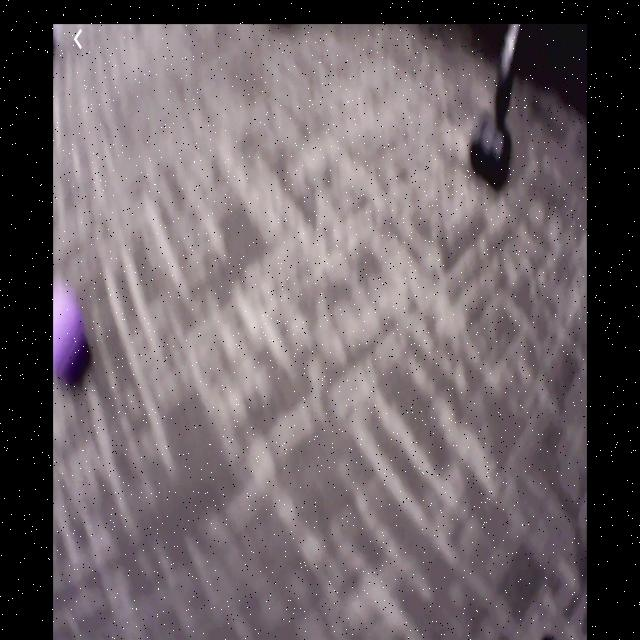ball: (54, 300, 85, 381)
